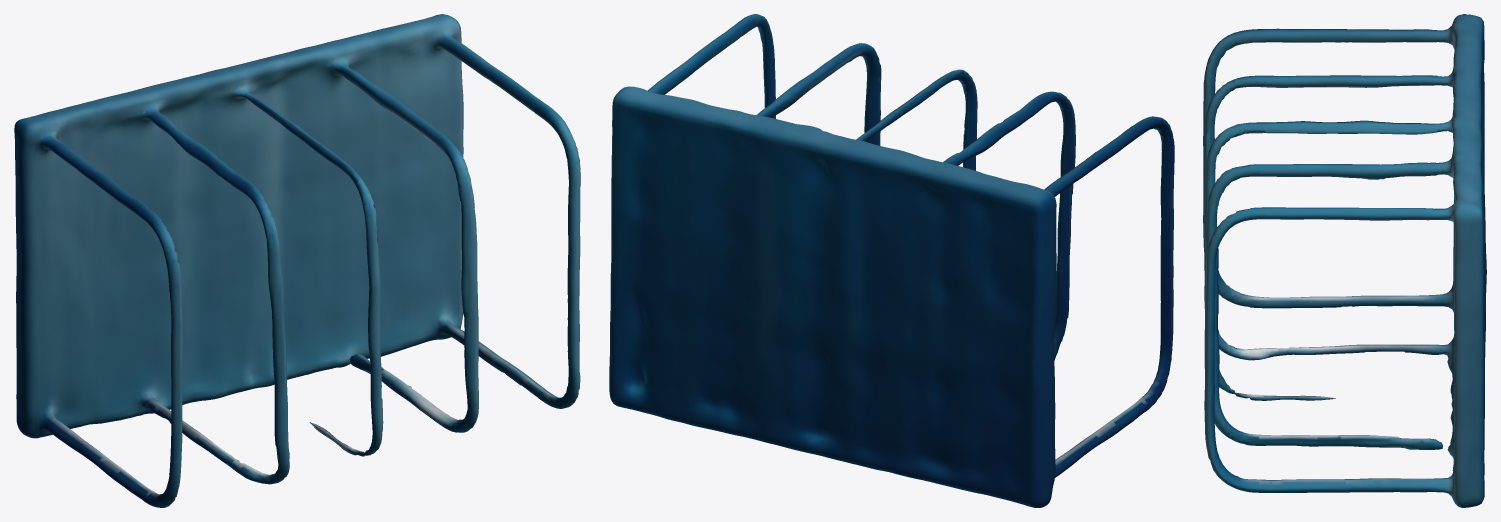
Rendered from sorter.glb.
3 views of the same model, side by side, from view 1: azimuth 30°, elevation 25°; view 2: azimuth 150°, elevation 25°; view 3: azimuth 270°, elevation 25° (orthographic). The views are drawn at different scales.
Size of the model in its own units: 0.9994 by 0.6984 by 0.5867.
